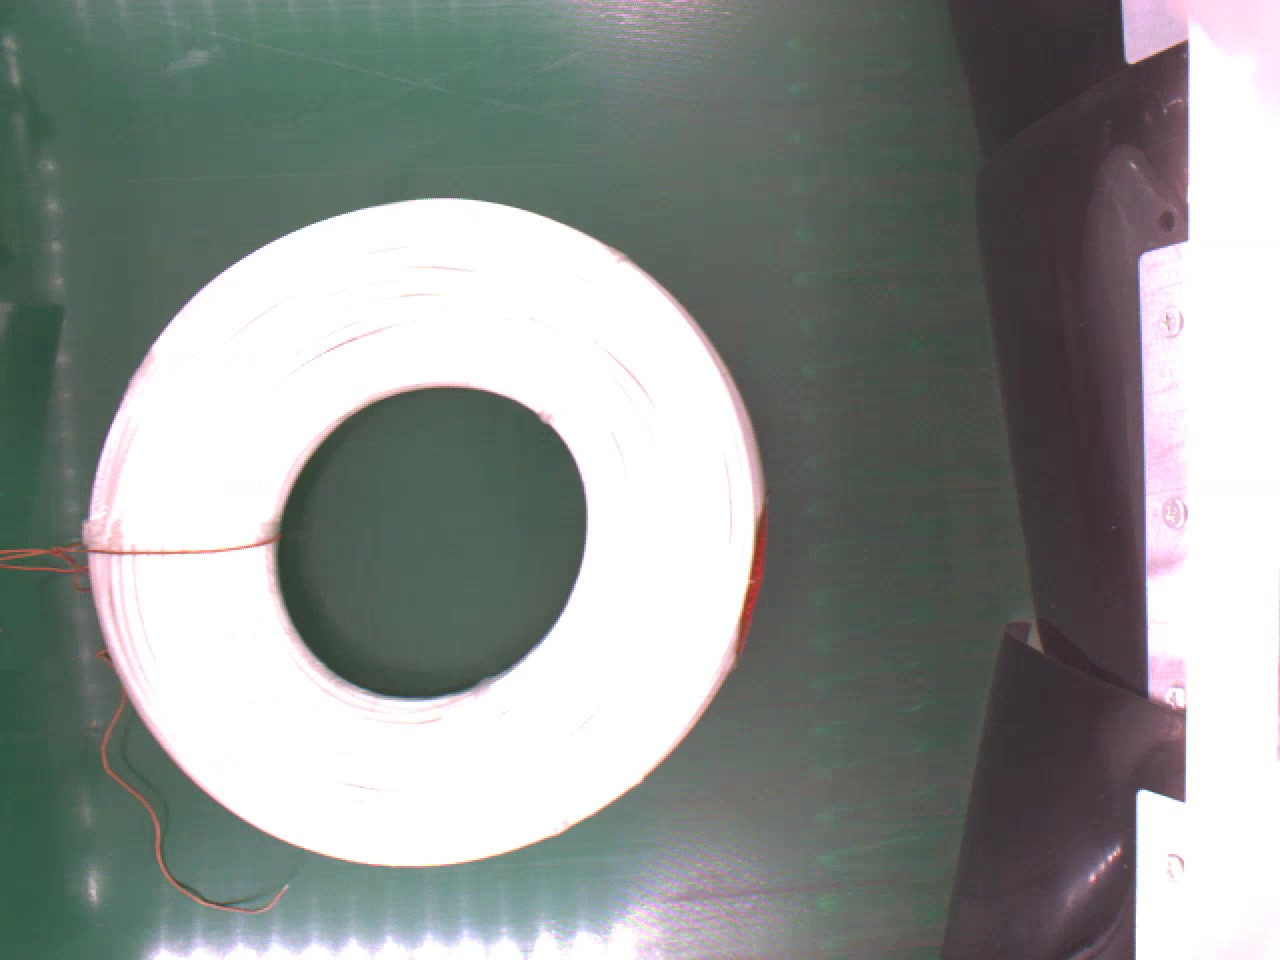white: (88, 192, 766, 863)
